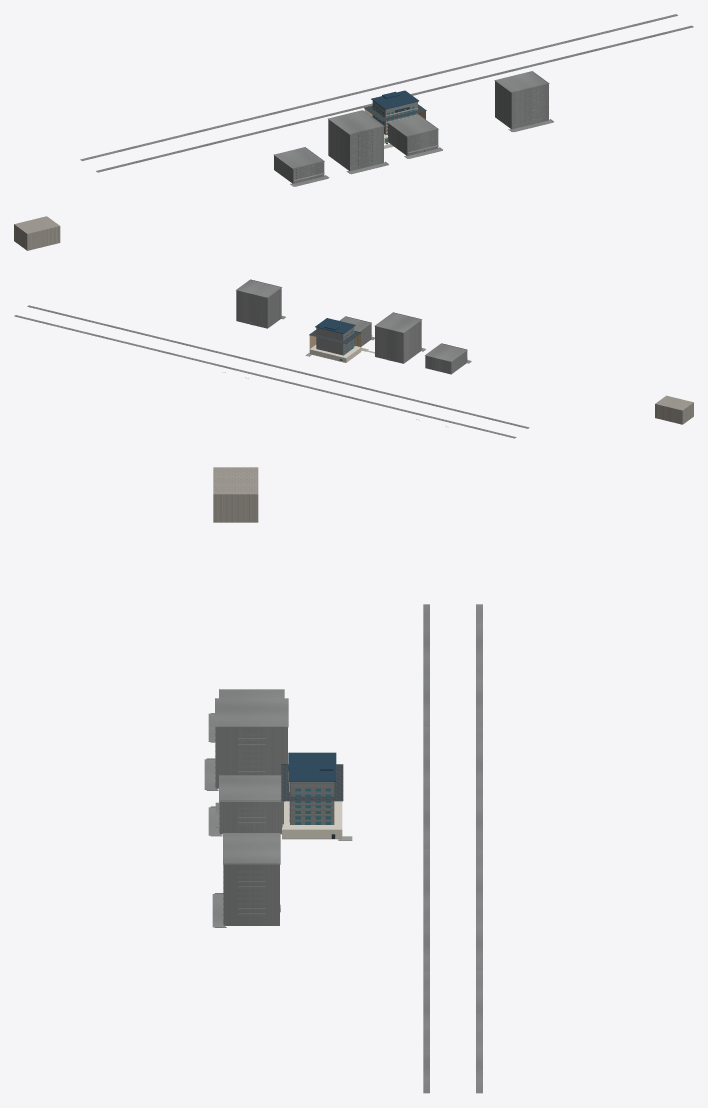
Rendered from cell_1_-5_full.gltf.
The picture shows the model from 3 angles, top to bottom: view 1: azimuth 30°, elevation 25°; view 2: azimuth 150°, elevation 25°; view 3: azimuth 270°, elevation 25°; orthographic projection. The views are drawn at different scales.
Parts seen in each view (by area): view 1: HOTEL_TOWER_MAIN_MASS, MASS_YABA_004, HOTEL_EXT_DROP_OFF_CANOPY; view 2: HOTEL_TOWER_MAIN_MASS, MASS_YABA_004, HOTEL_CORE_SOUTH_PARTITION, HOTEL_EXT_DROP_OFF_CANOPY; view 3: HOTEL_TOWER_MAIN_MASS, MASS_YABA_004, HOTEL_EXT_DROP_OFF_CANOPY, HOTEL_CORE_SOUTH_PARTITION.
Boxes of the visible parts, x1,y1,x2,y2 form: HOTEL_TOWER_MAIN_MASS: (80,14,693,186); MASS_YABA_004: (14,216,60,250); HOTEL_EXT_DROP_OFF_CANOPY: (371,90,418,144); HOTEL_TOWER_MAIN_MASS: (14,279,529,438); MASS_YABA_004: (655,395,693,424); HOTEL_CORE_SOUTH_PARTITION: (309,345,361,362); HOTEL_EXT_DROP_OFF_CANOPY: (315,318,355,333); HOTEL_TOWER_MAIN_MASS: (204,604,482,1093); MASS_YABA_004: (213,467,258,522); HOTEL_EXT_DROP_OFF_CANOPY: (288,752,336,782); HOTEL_CORE_SOUTH_PARTITION: (282,801,342,838).
Size of the model in its own units: 703 by 34.54 by 148.
25 materials, 4 textured.
